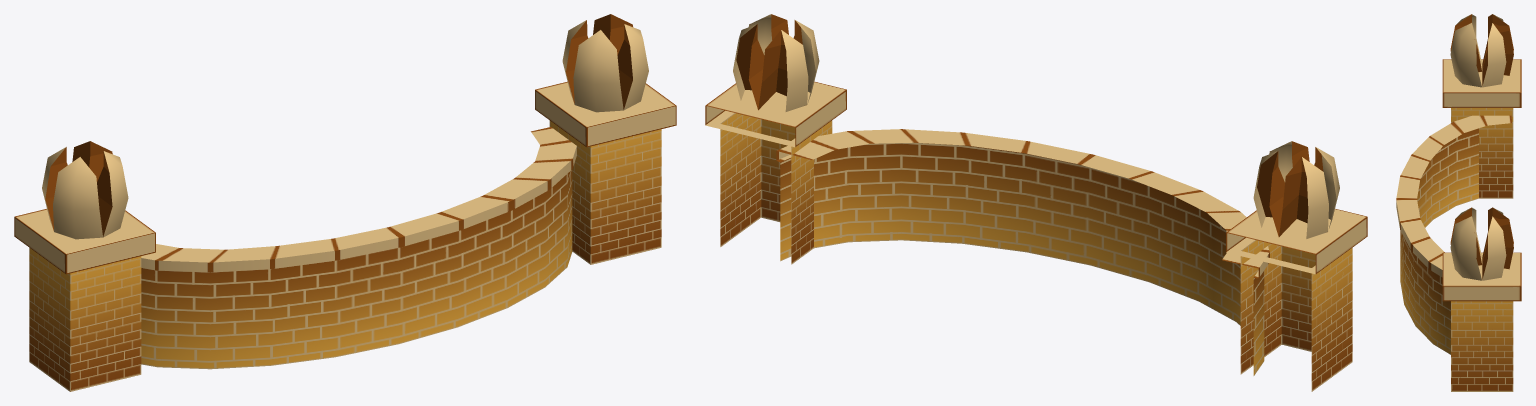
Rendered from Elvis_Wall_Posts.FBX.
3 views of the same model, side by side, from view 1: azimuth 30°, elevation 25°; view 2: azimuth 150°, elevation 25°; view 3: azimuth 270°, elevation 25° (orthographic). The views are drawn at different scales.
Parts seen in each view (by area): view 1: Wall, Pillar001, Pillar; view 2: Wall, Pillar001, Pillar; view 3: Pillar, Wall, Pillar001.
Part boxes in pixels (<box>): Wall: <box>141,127,576,369</box>; Pillar001: <box>14,141,155,391</box>; Pillar: <box>535,14,676,264</box>; Wall: <box>776,129,1269,375</box>; Pillar001: <box>1226,141,1367,391</box>; Pillar: <box>705,14,846,264</box>; Pillar: <box>1442,207,1521,391</box>; Wall: <box>1396,115,1511,354</box>; Pillar001: <box>1442,14,1521,198</box>.
Size of the model in its own units: 12.9 by 3.02 by 4.43.
